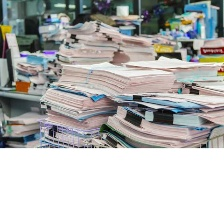book: (54, 57, 179, 99), (112, 103, 219, 140), (103, 112, 211, 148), (107, 89, 223, 109), (122, 52, 224, 74), (59, 32, 117, 69), (159, 68, 224, 101), (38, 86, 120, 112), (42, 104, 113, 132), (57, 18, 127, 45), (38, 121, 99, 147), (139, 107, 207, 126), (116, 35, 154, 67), (0, 122, 40, 150), (5, 107, 53, 124), (16, 59, 53, 77), (27, 81, 50, 98), (201, 36, 224, 46)
